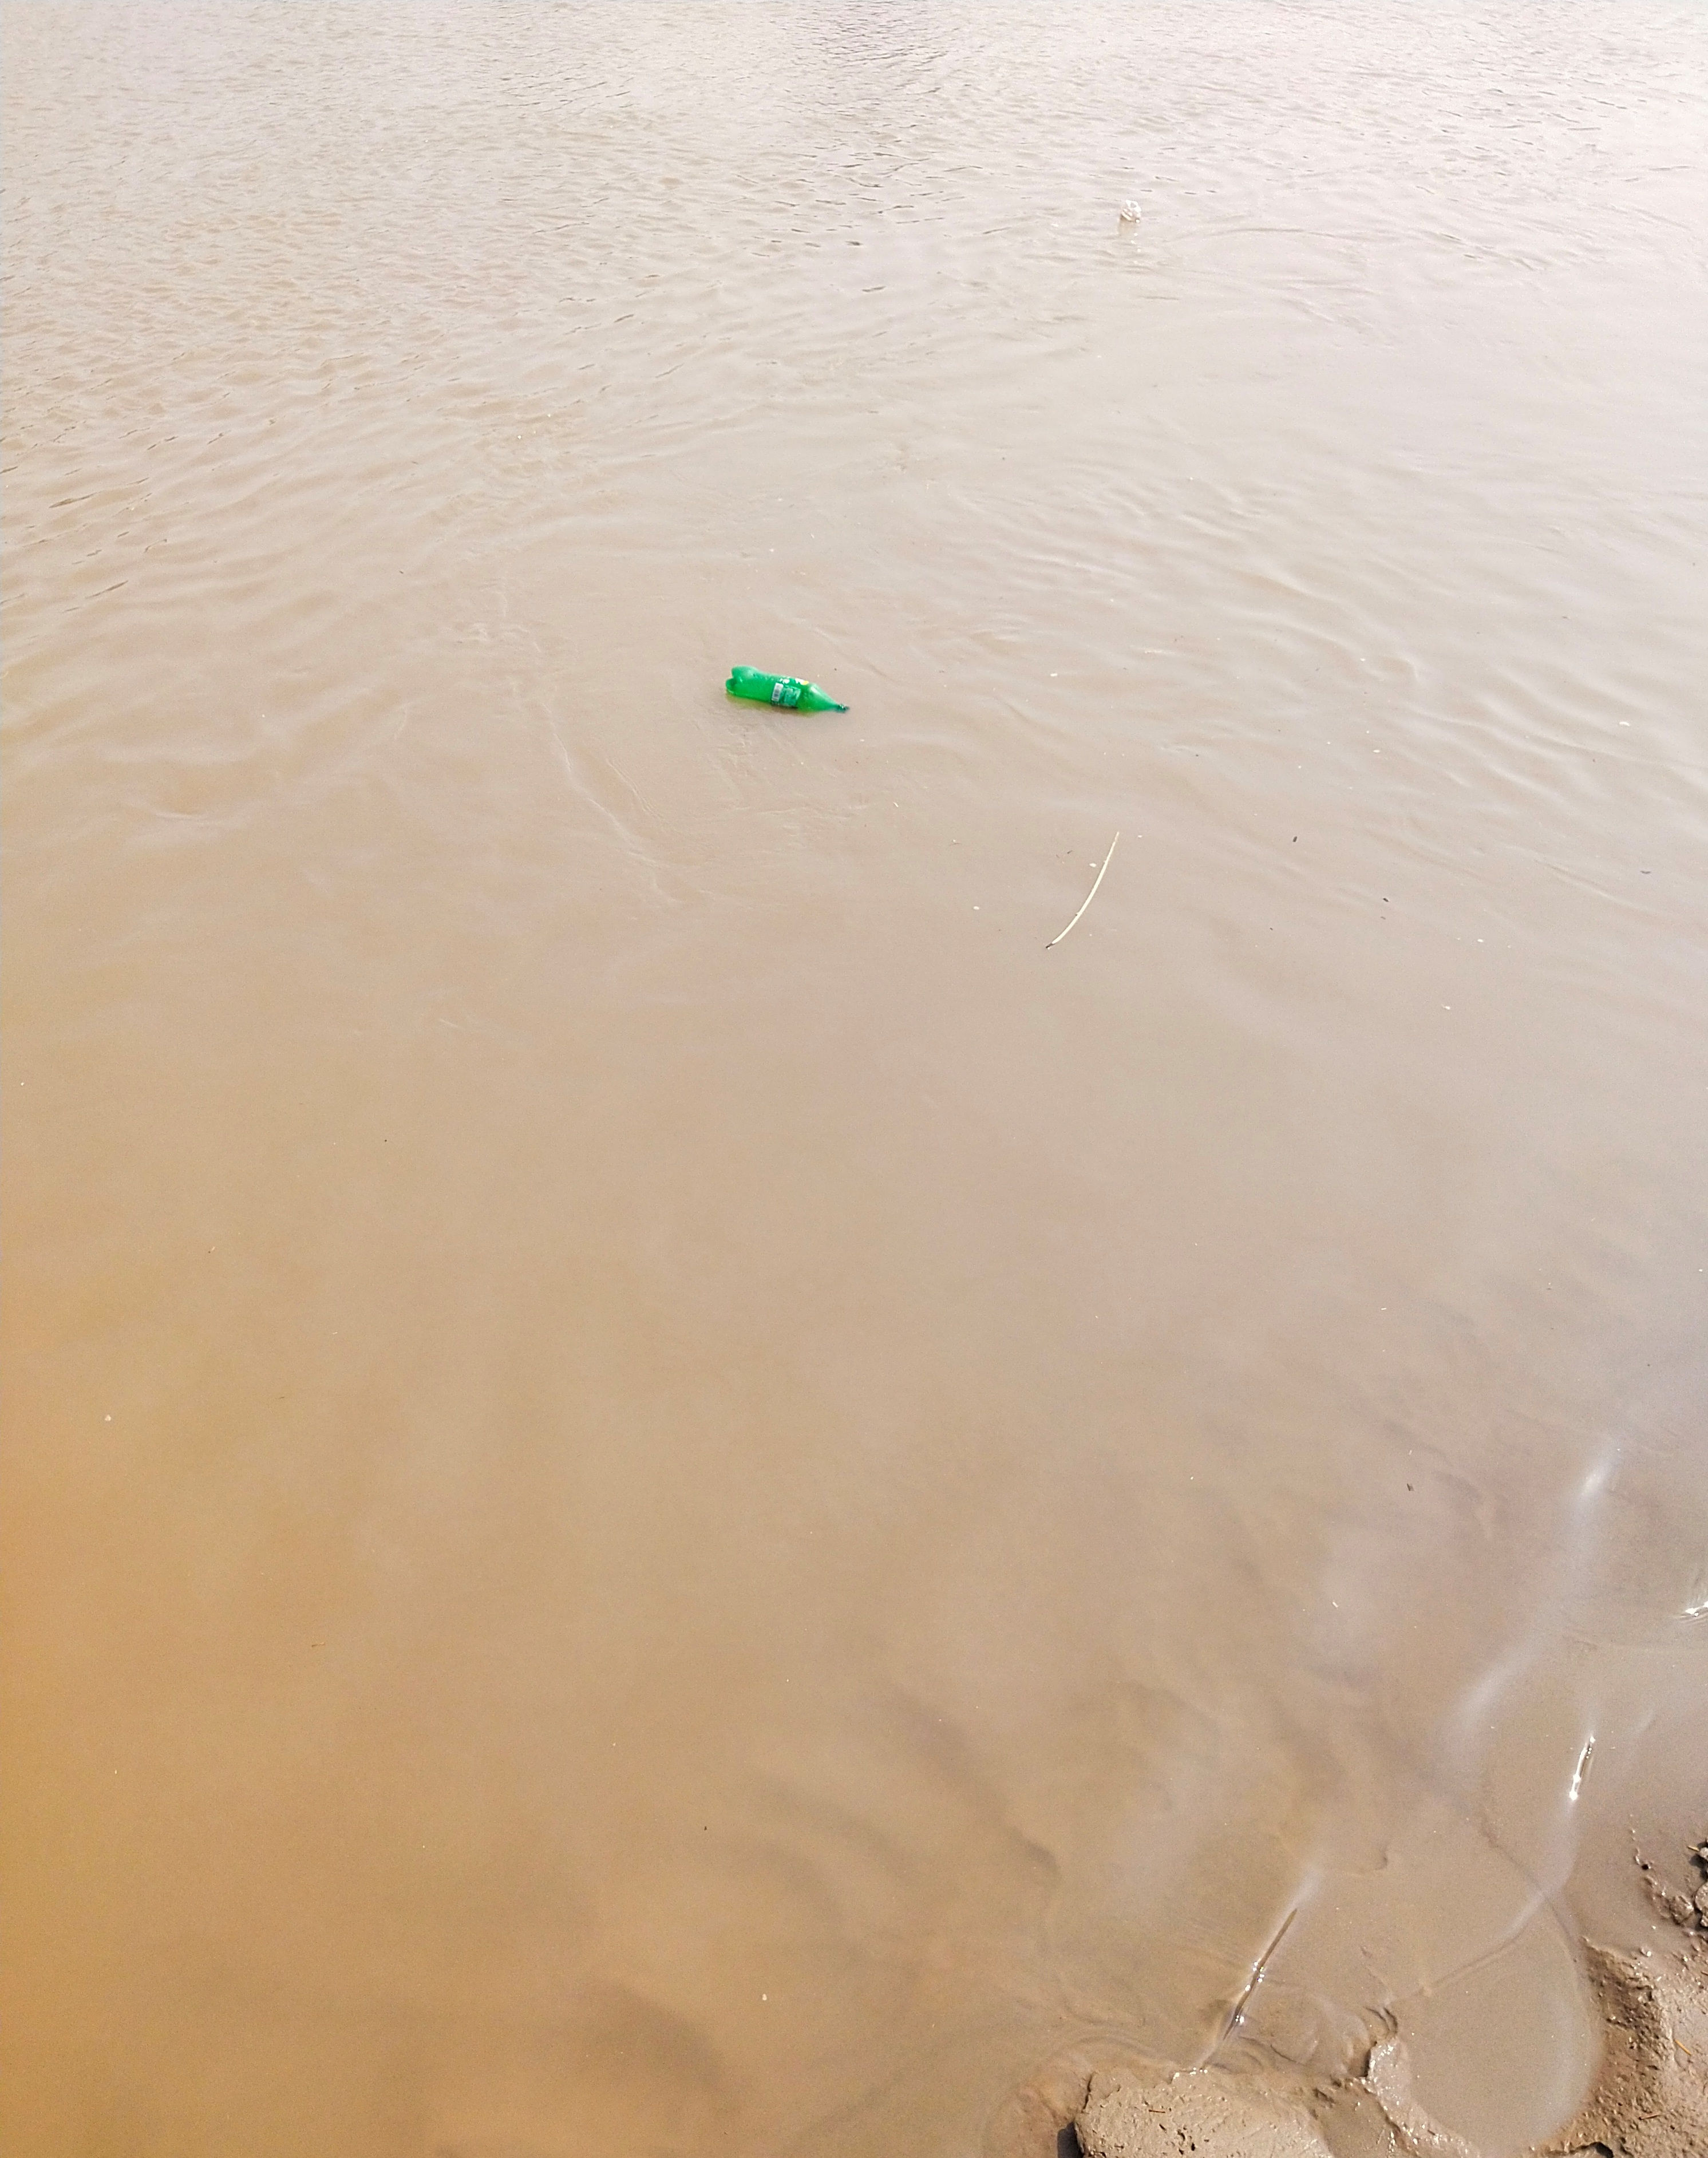Plastic Bottle: (725, 664, 848, 713), (1121, 200, 1140, 221)
